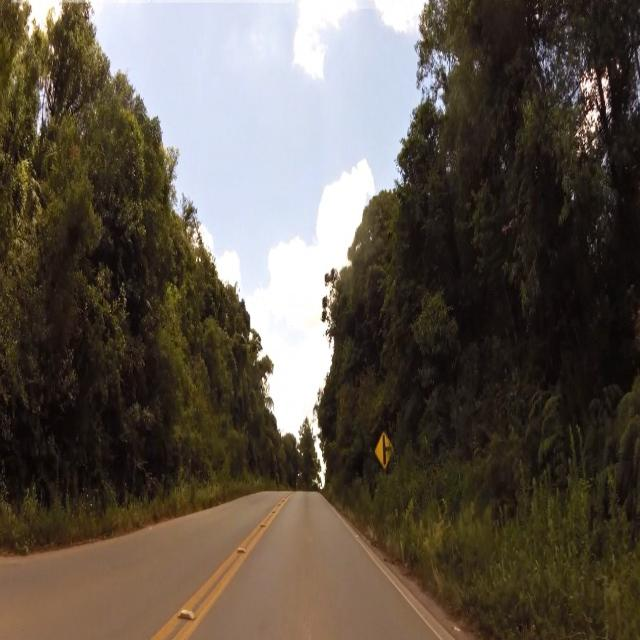A-7b: (373, 430, 398, 469)
